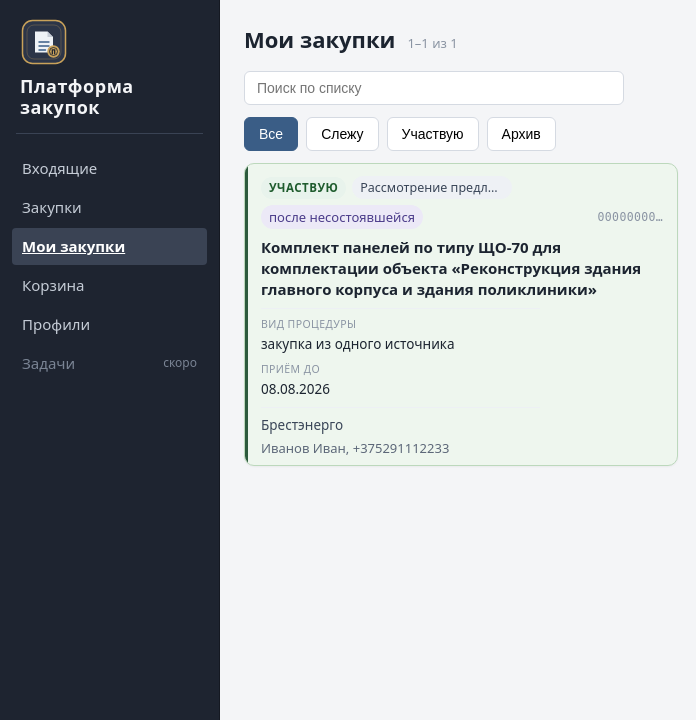
Scenario: MyProcurementsApp › clamps a long title on the tile and keeps the full text for hover
Hover over the heading named "Комплект панелей по типу ЩО-70 для комплектации объекта «Реконструкция здания главного корпуса и здания поликлиники»".
mouse_move(462, 269)  # box [261, 238, 663, 300]
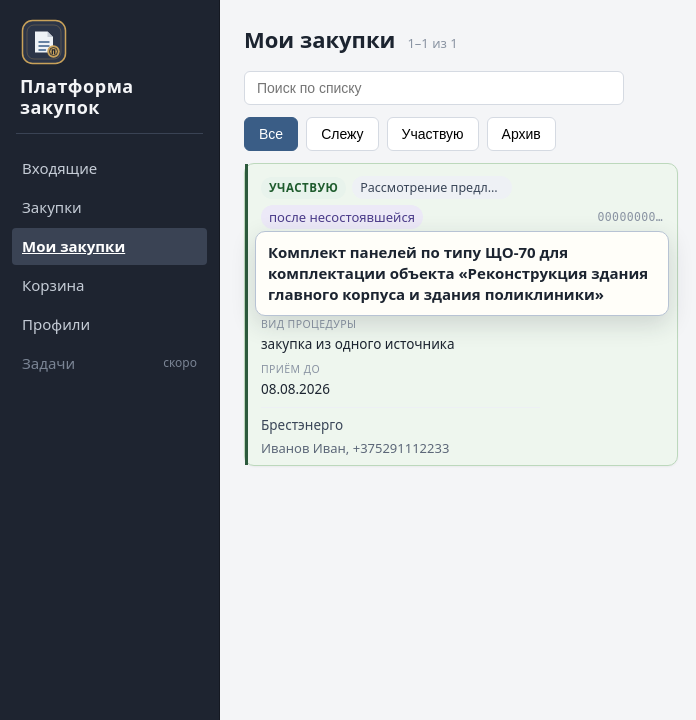
expect the text "Вид процедуры" is shown: met, box [261, 318, 356, 332]
expect the text "Комплект панелей по типу ЩО-70 для комплектации объекта «Реконструкция здания главного корпуса и здания поликлиники»" is shown: met, box [268, 242, 648, 304]
